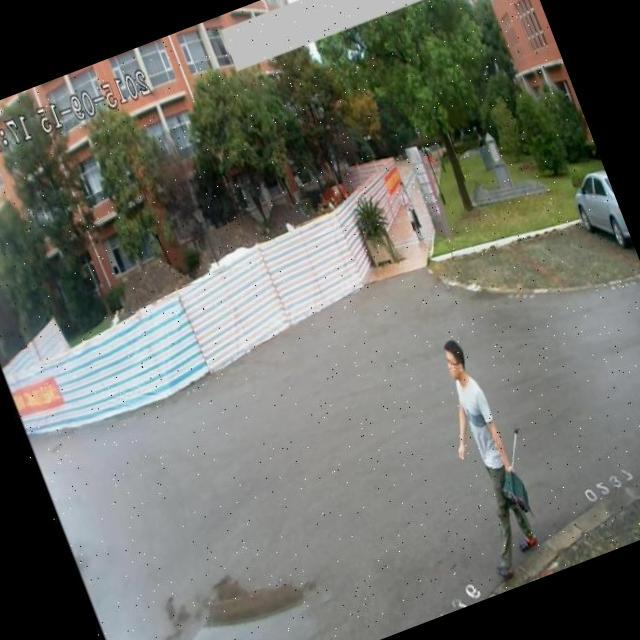person: (411, 328, 569, 586)
